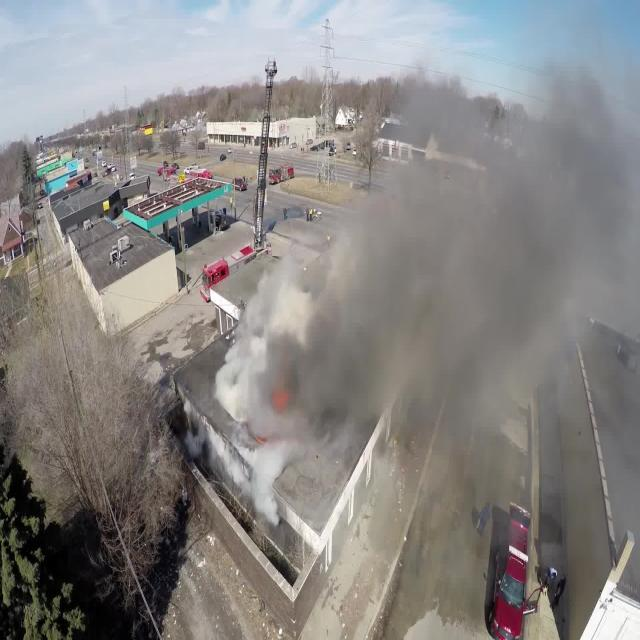Smoke: (223, 90, 632, 442)
